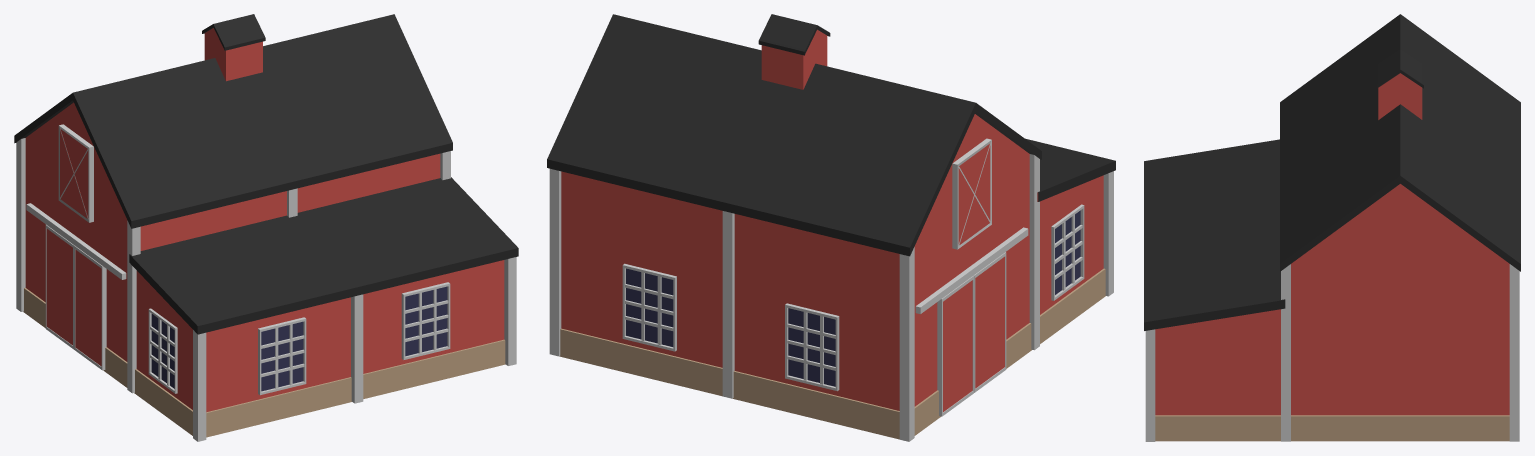
File: barn_big.fbx
3 renders of one model, left to right at view 1: azimuth 30°, elevation 25°; view 2: azimuth 150°, elevation 25°; view 3: azimuth 270°, elevation 25°, orthographic. The views are drawn at different scales.
Parts seen in each view (by area): view 1: Cube, Cube.004, Cube.008, Cube.007, Cube.019, Cube.003, Cube.001, Cube.009, Cube.011, Cube.010, Cube.012, Cube.013 (+2 smaller); view 2: Cube, Cube.003, Cube.005, Cube.006, Cube.019, Cube.004, Cube.001, Cube.011, Cube.009, Cube.017, Cube.014, Cube.010 (+2 smaller); view 3: Cube, Cube.019, Cube.017, Cube.018, Cube.016.
Boxes of the visible parts, <box> form: Cube: <box>14,14,518,437</box>; Cube.004: <box>74,245,106,370</box>; Cube.008: <box>401,282,450,359</box>; Cube.007: <box>258,317,306,395</box>; Cube.019: <box>202,14,265,81</box>; Cube.003: <box>45,224,74,349</box>; Cube.001: <box>58,124,93,222</box>; Cube.009: <box>148,308,177,393</box>; Cube.011: <box>16,138,25,311</box>; Cube.010: <box>127,220,140,393</box>; Cube.012: <box>193,330,206,441</box>; Cube.013: <box>351,294,363,403</box>; Cube: <box>547,14,1115,439</box>; Cube.003: <box>937,275,973,416</box>; Cube.005: <box>785,303,839,391</box>; Cube.006: <box>622,263,676,351</box>; Cube.019: <box>758,14,830,89</box>; Cube.004: <box>973,252,1006,392</box>; Cube.001: <box>952,138,991,249</box>; Cube.011: <box>899,247,914,441</box>; Cube.009: <box>1051,204,1084,300</box>; Cube.017: <box>549,168,561,356</box>; Cube.014: <box>722,211,734,398</box>; Cube.010: <box>1029,154,1039,350</box>; Cube: <box>1144,14,1520,441</box>; Cube.019: <box>1377,49,1423,119</box>; Cube.017: <box>1509,264,1519,441</box>; Cube.018: <box>1281,264,1290,441</box>; Cube.016: <box>1145,329,1155,441</box>.
Bounding box in the file's own units: 785 × 686 × 773.
